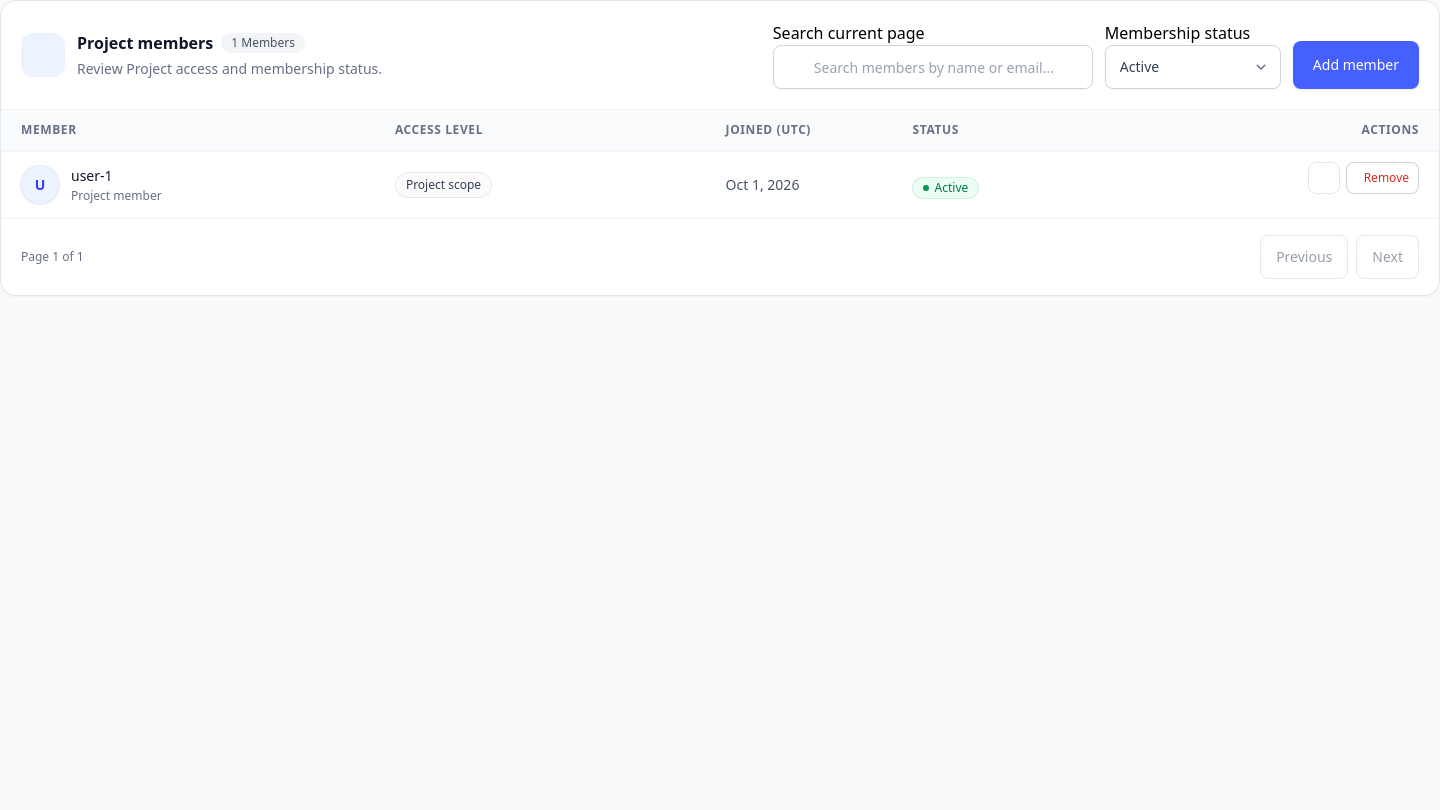
denied remove disables remove and keeps the member visible
The width and height of the screenshot is (1440, 810).
Click the button "Remove": (1382, 178) [1346,162,1419,194]
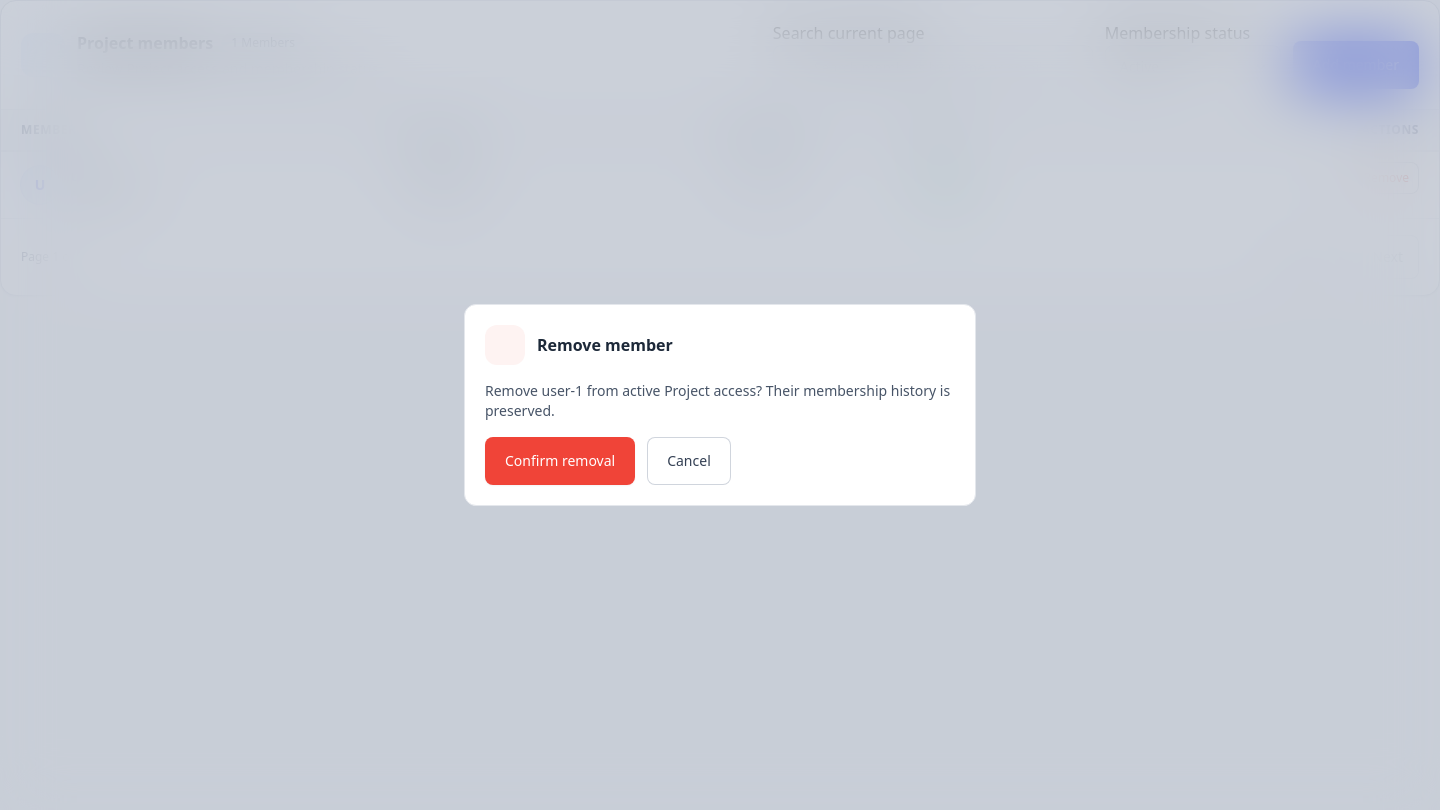
Click the button "Confirm removal": (560, 461) [485,437,635,485]
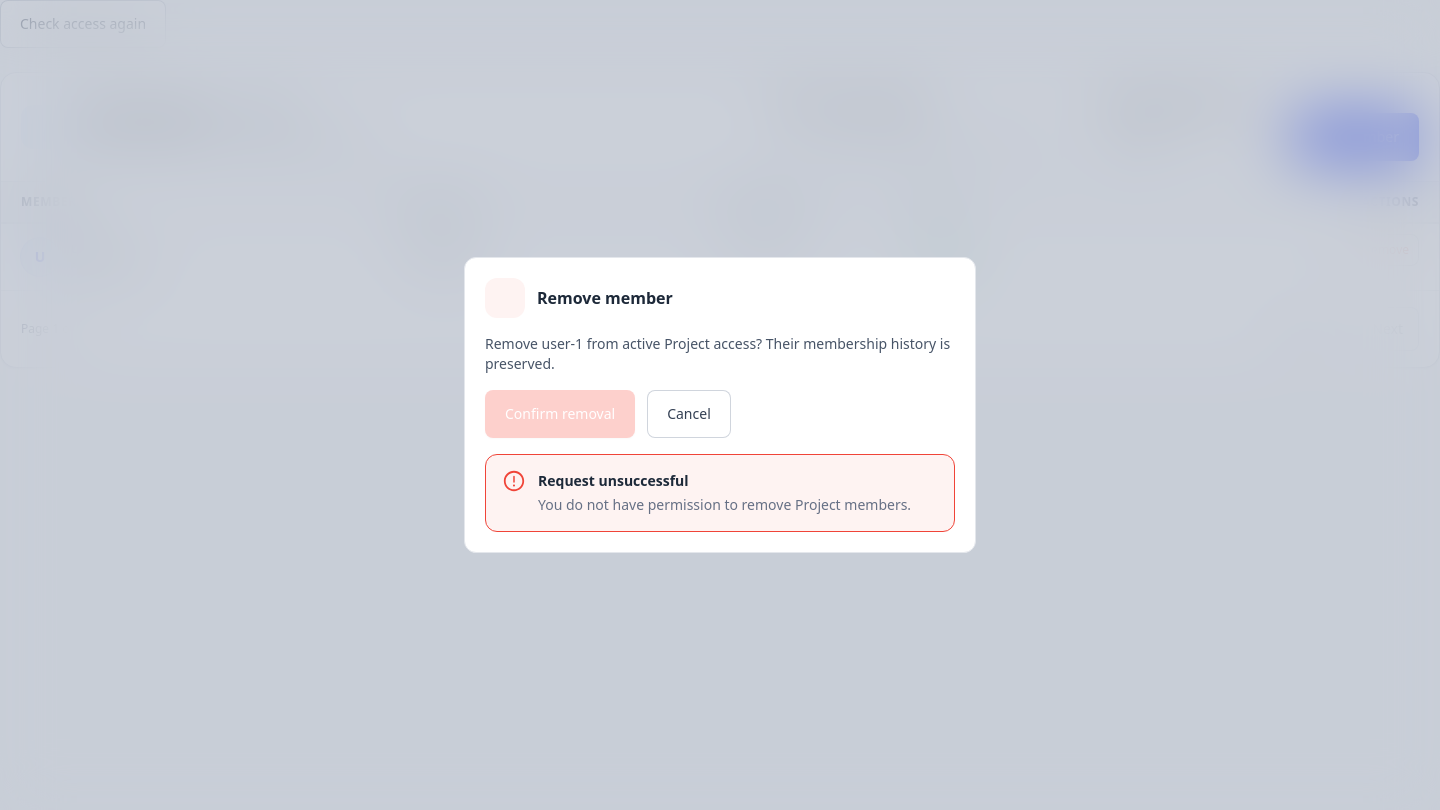
Expected: the button with aria-label "Open Add member form" is enabled, [1293,113,1419,161]
Expected: the text "You do not have permission to remove Project members." is shown, [538,495,911,515]
